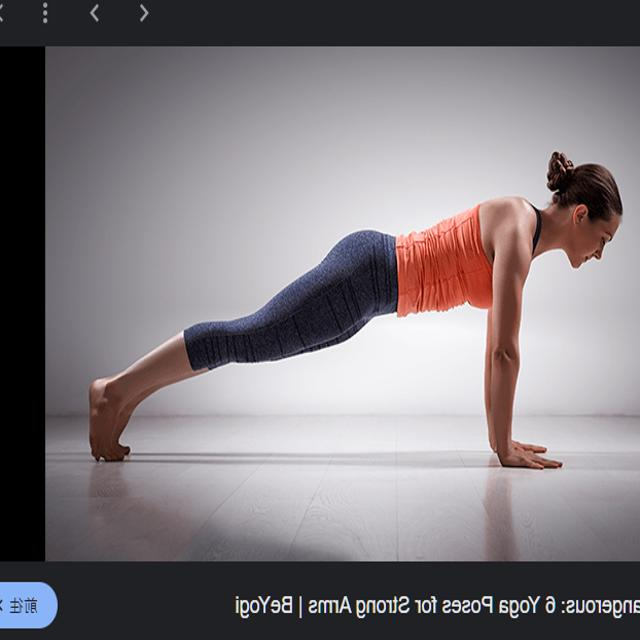Plank_Pose: (75, 152, 627, 475)
